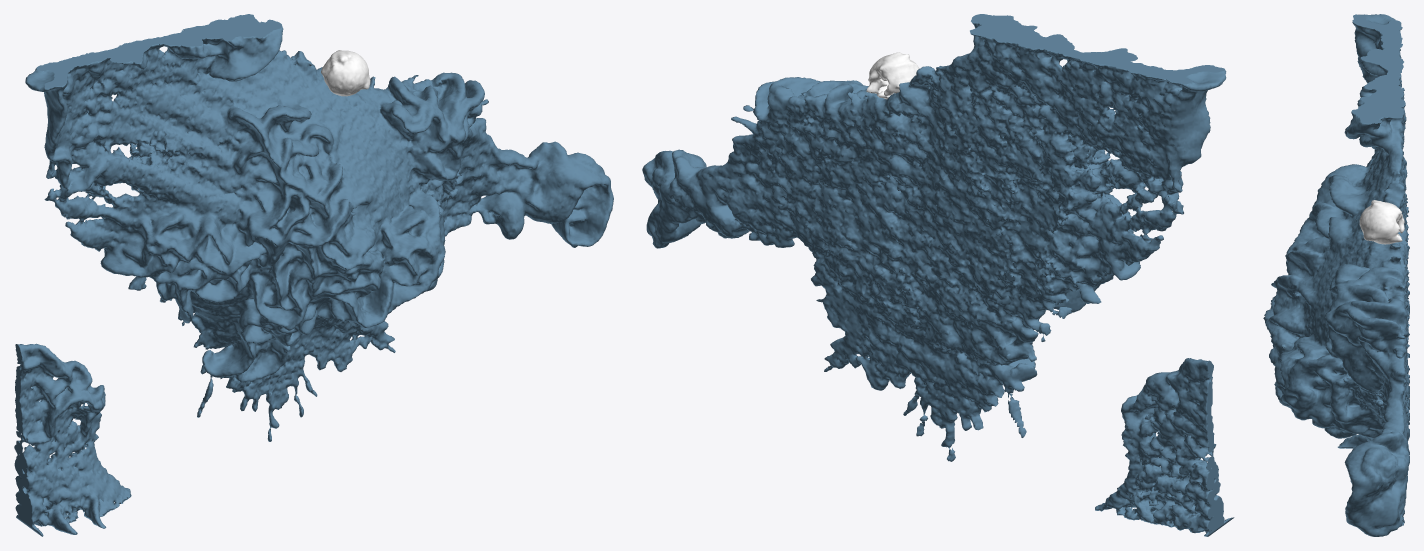
3 views of the same model, side by side, from view 1: azimuth 30°, elevation 25°; view 2: azimuth 150°, elevation 25°; view 3: azimuth 270°, elevation 25° (orthographic). The views are drawn at different scales.
Visible parts, largest first — view 1: surface (×2); view 2: surface (×2); view 3: surface (×2).
Part boxes in pixels (box(x1,y1,x2,y2)): surface (×2): box(14, 14, 613, 536); surface (×2): box(642, 14, 1234, 536); surface (×2): box(1263, 14, 1409, 536).
Size of the model in its own units: 589 by 436 by 141.
